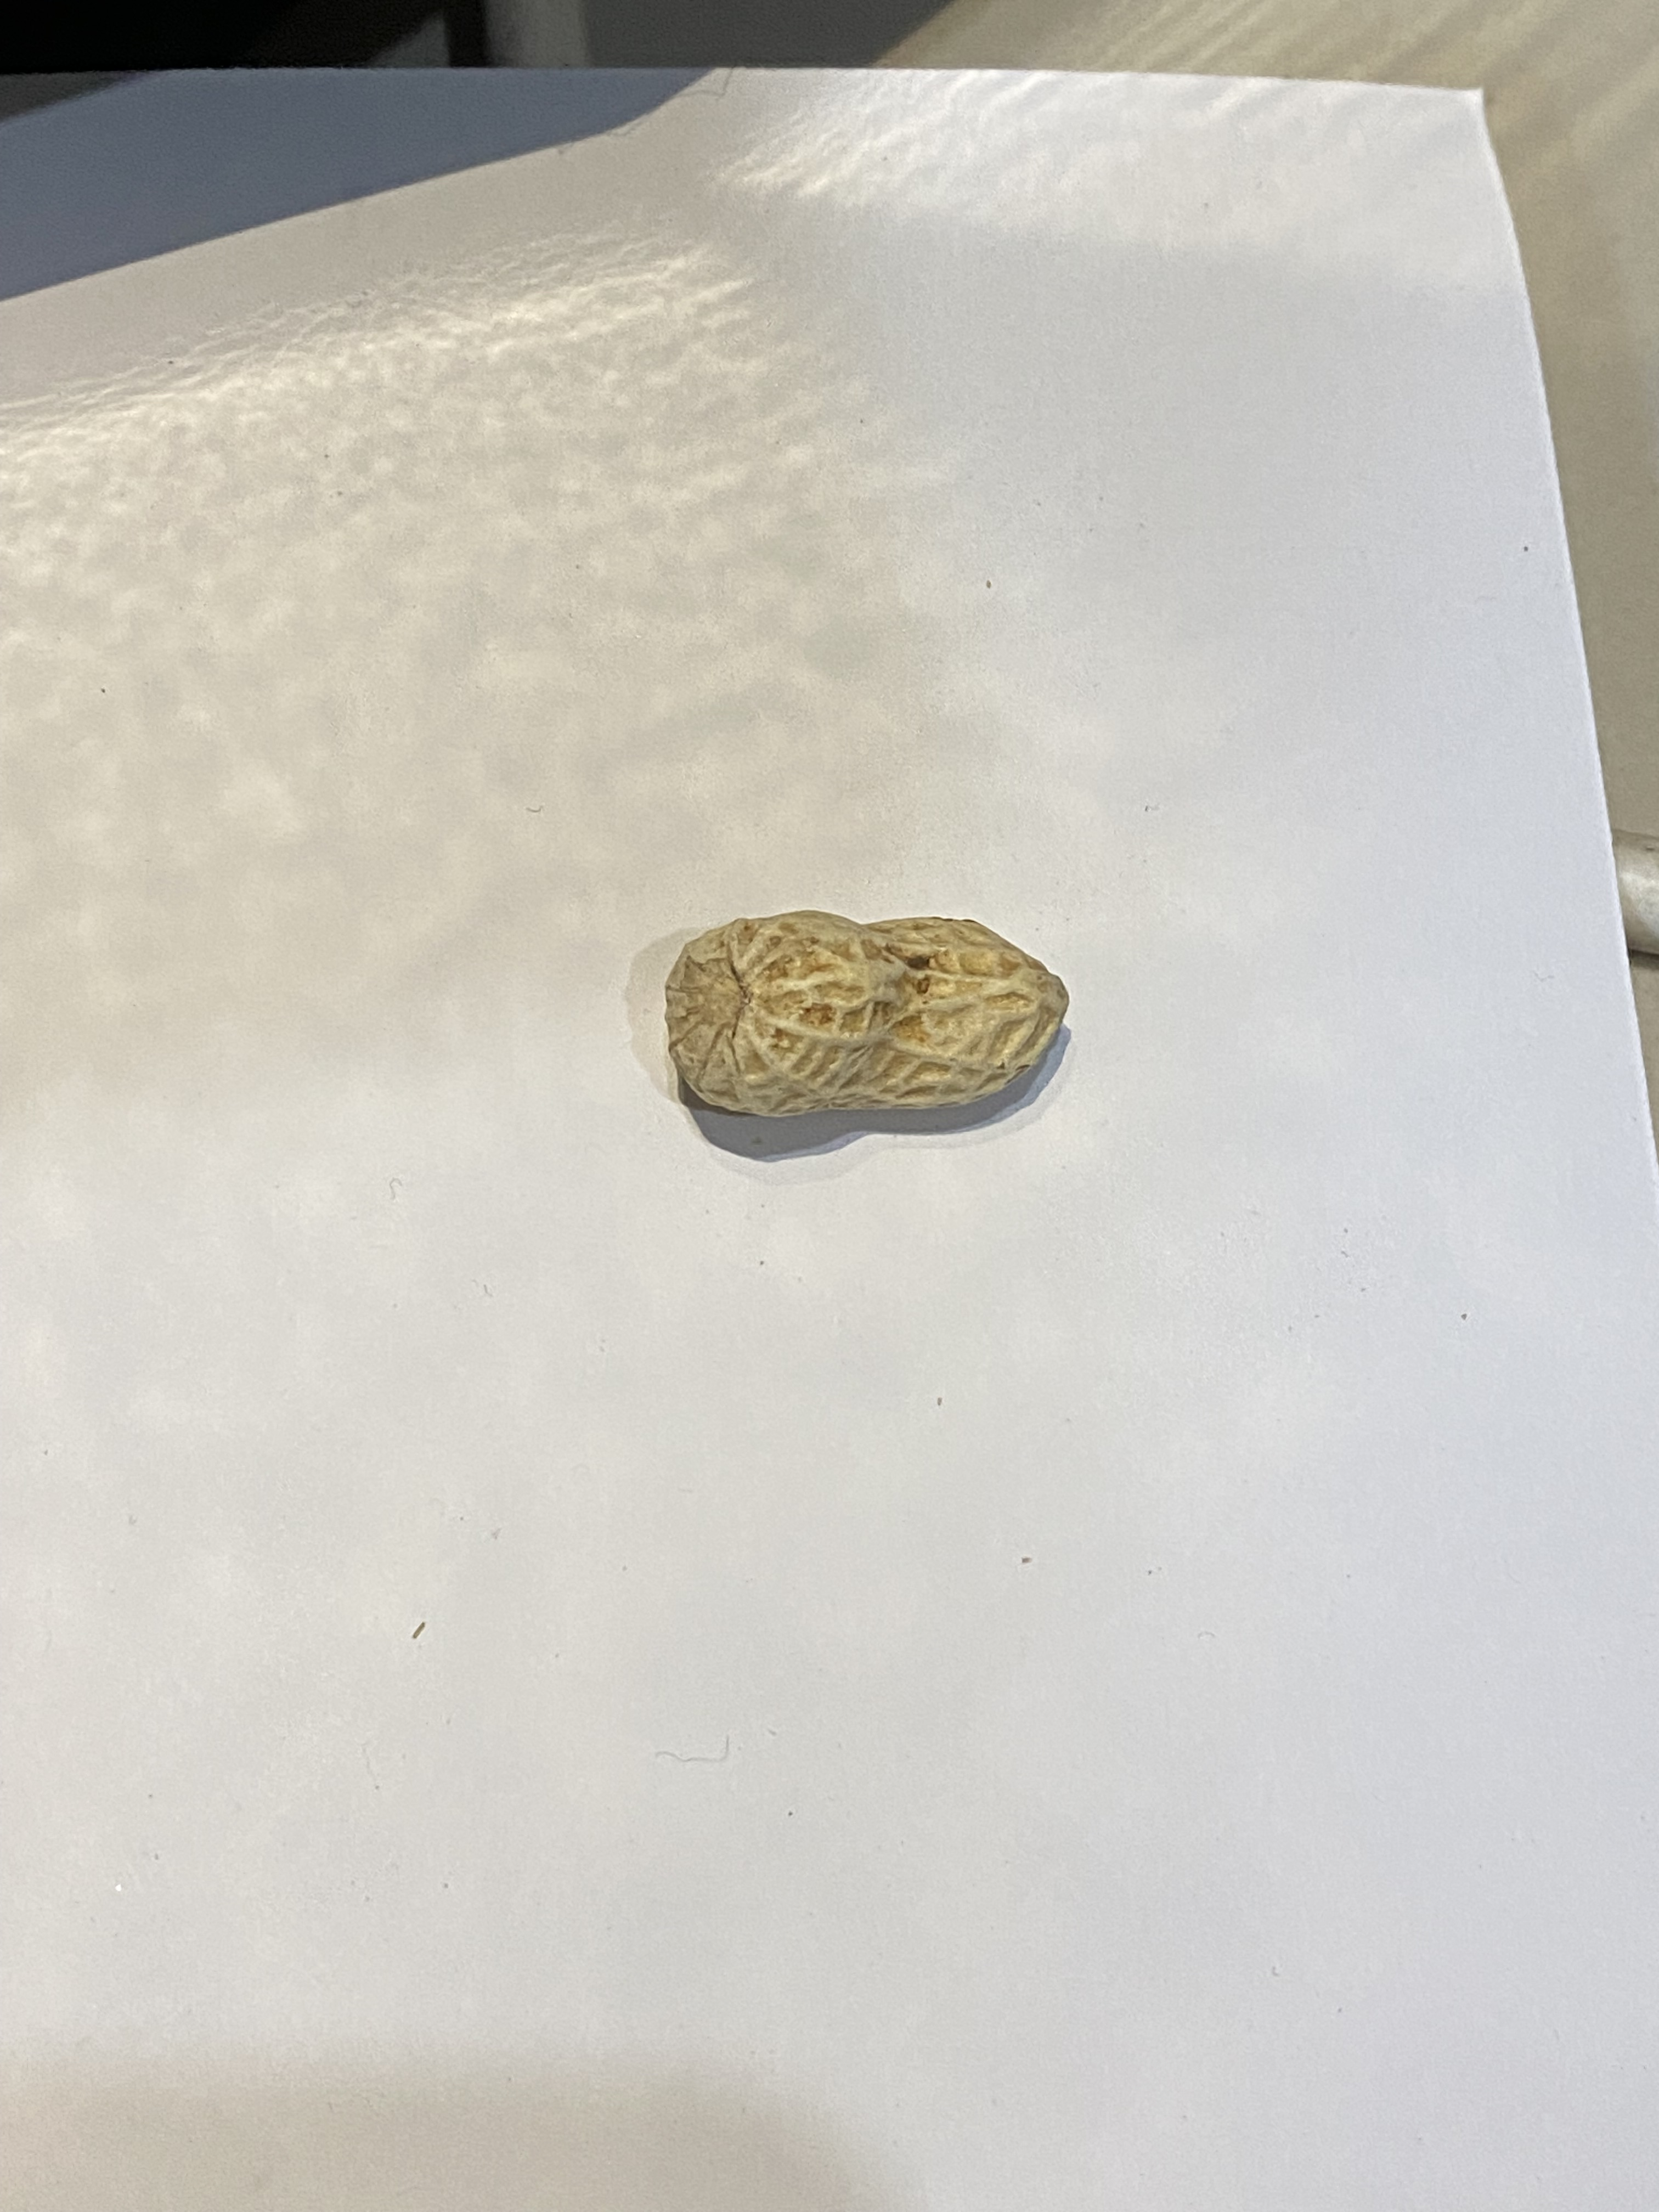kacang2: (652, 876, 1077, 1148)
